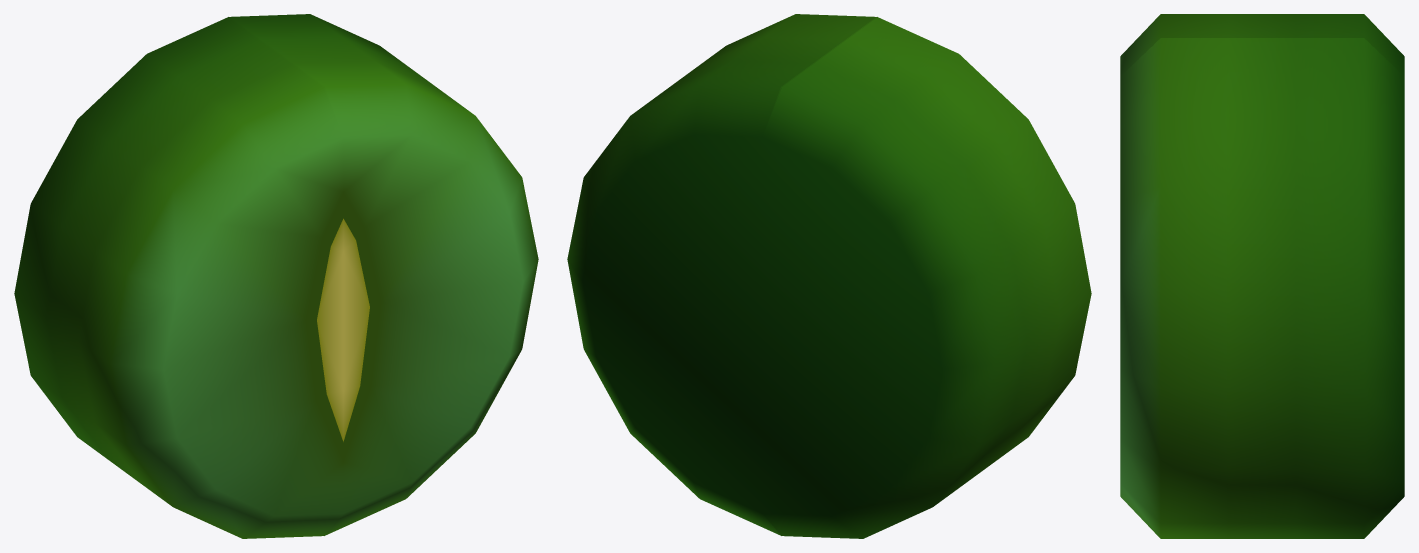
File: Snake_Body.FBX
3 renders of one model, left to right at view 1: azimuth 30°, elevation 25°; view 2: azimuth 150°, elevation 25°; view 3: azimuth 270°, elevation 25°, orthographic. The views are drawn at different scales.
Visible parts, largest first — view 1: Cylinder002; view 2: Cylinder002; view 3: Cylinder002.
Boxes of the visible parts, x1,y1,x2,y2 form: Cylinder002: (14,14,538,538); Cylinder002: (567,14,1091,538); Cylinder002: (1120,14,1404,538).
Size of the model in its own units: 1.84 by 1.84 by 0.9941.
